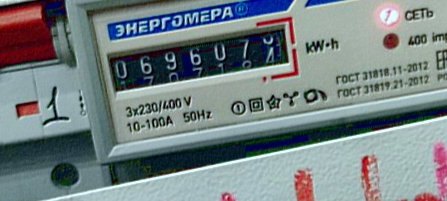0: (212, 38, 230, 62), (113, 57, 130, 80)
4: (263, 44, 279, 67)
6: (138, 52, 155, 75), (187, 44, 204, 66)
7: (237, 36, 255, 60)
9: (163, 48, 179, 71)
screen: (94, 13, 307, 103)
